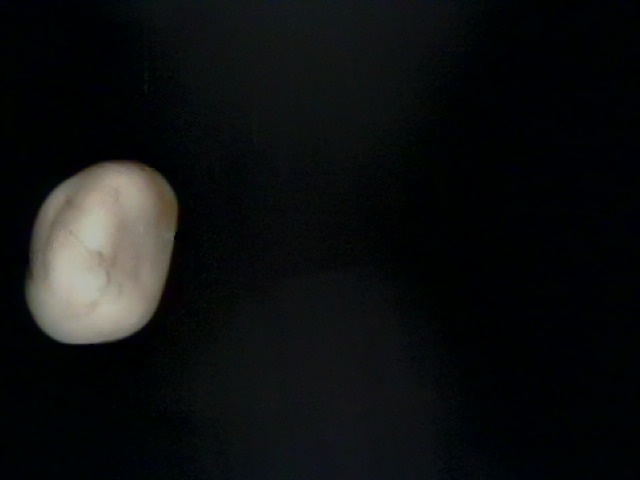QTLJ: (517, 87, 640, 269)
